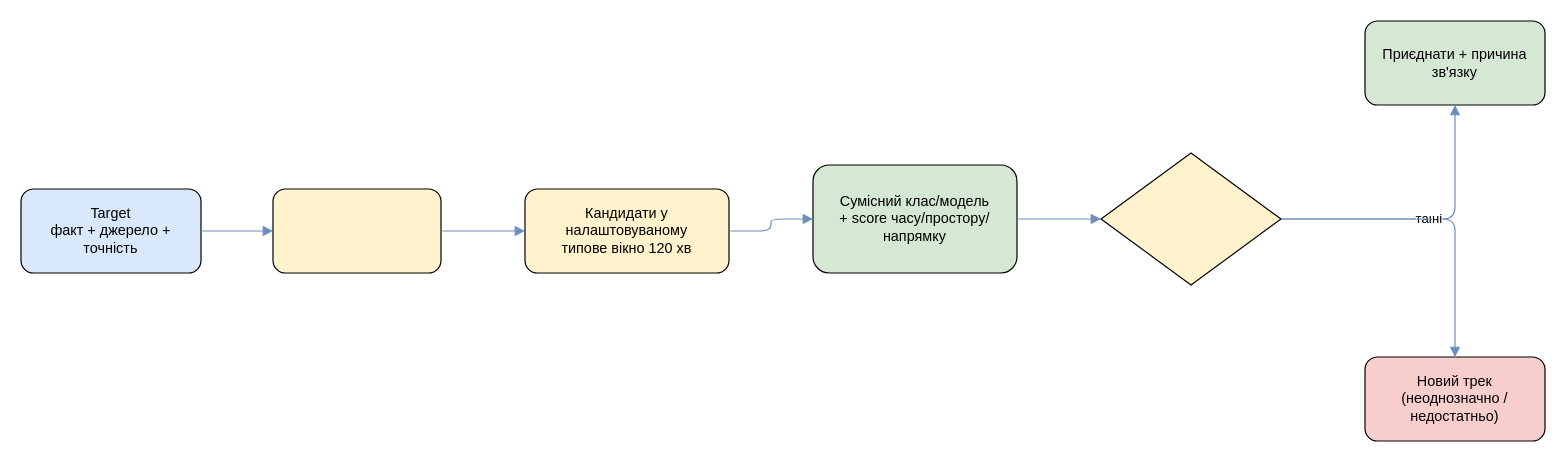
Image size: 1566x462. Some labels were removed from this diagram. The shapes that lost their labels are listed below. From the top down, each one's box as (x1, y1, x2, y2) in pixels, then its label:
(272, 188, 441, 273): Перевірка дубліката (типово 3 хв)
(1100, 152, 1281, 285): Найкращий ≥ 0.6 і перевага over runner-up > 0.05?
